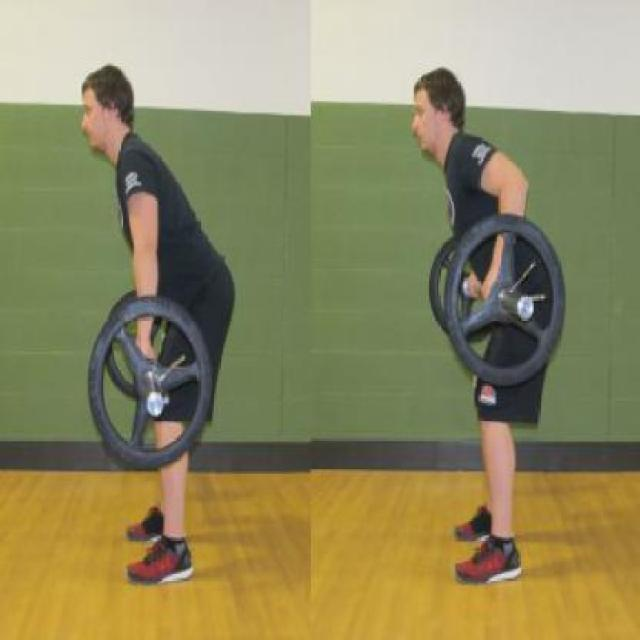barbell: (79, 288, 223, 485), (436, 199, 576, 396)
